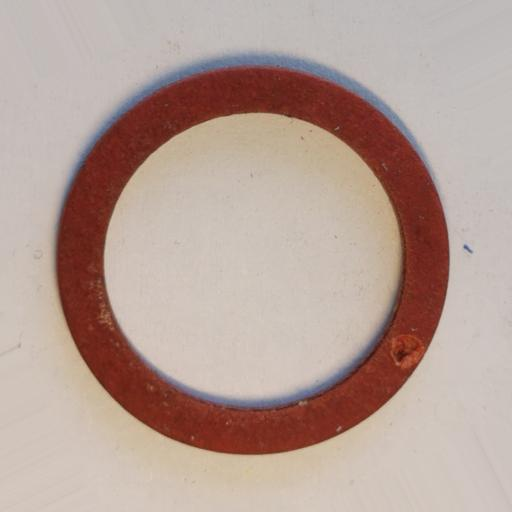defect: (389, 333, 424, 367)
